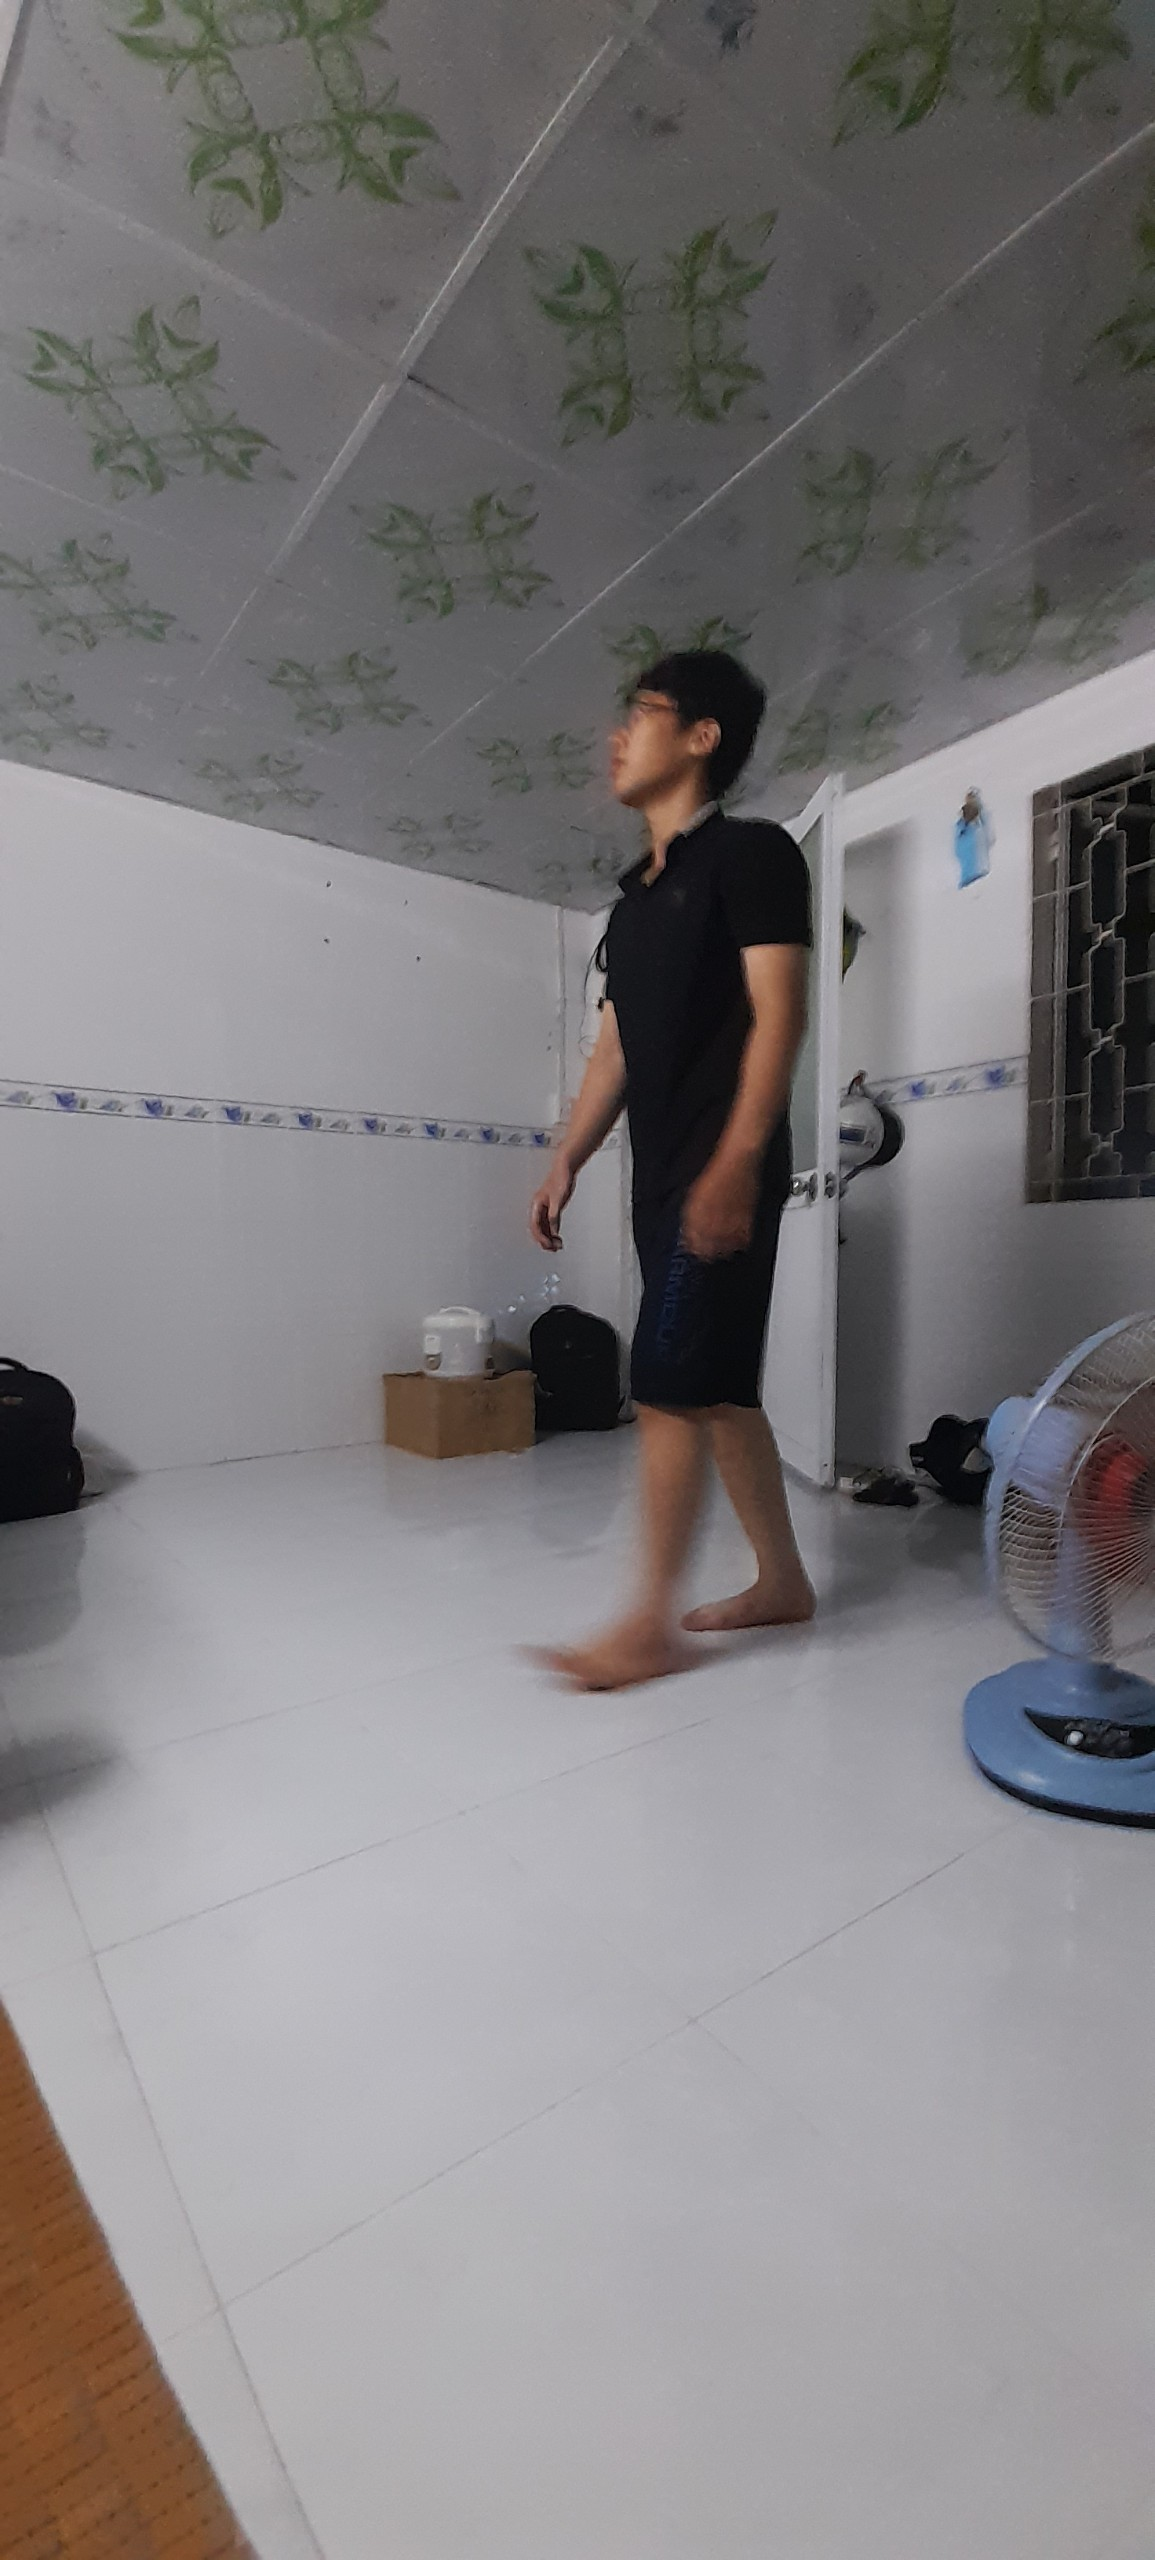person: (565, 655, 816, 1657)
